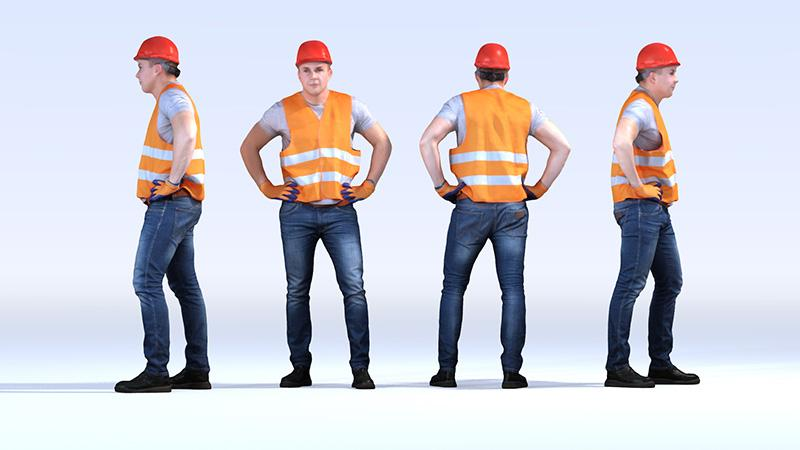helmet: (133, 36, 182, 67), (636, 43, 683, 72), (294, 40, 334, 68), (474, 43, 512, 71)
